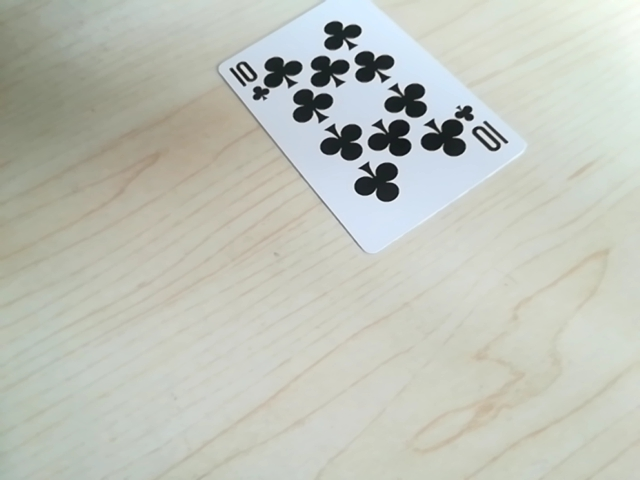mh 10: (449, 103, 510, 152), (225, 57, 277, 99)
